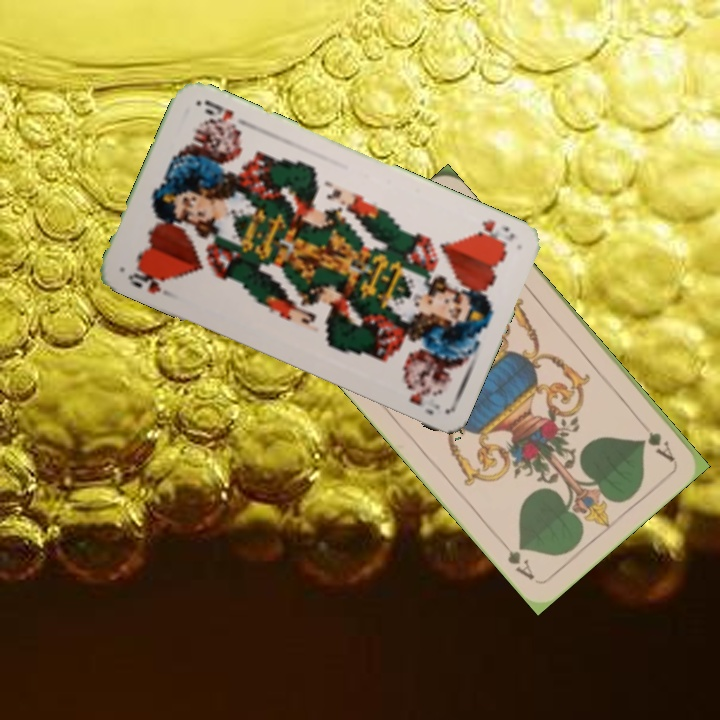GA: (634, 415, 677, 465)
HO: (470, 215, 518, 250), (124, 262, 173, 296)
